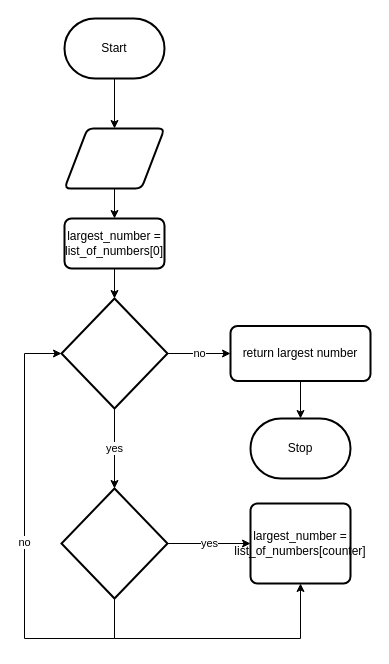
This 389x664 diagram has some shape labels left out. The shapes that lost their labels are listed below. From the top down, each one's centre as x and y in pixels, then its label:
the point at 114,158: Get list of random numbers
the point at 114,353: for counter in range (0, len(list_of_numbers) )
the point at 114,543: if list_of_numbers[counter] > largest_number
